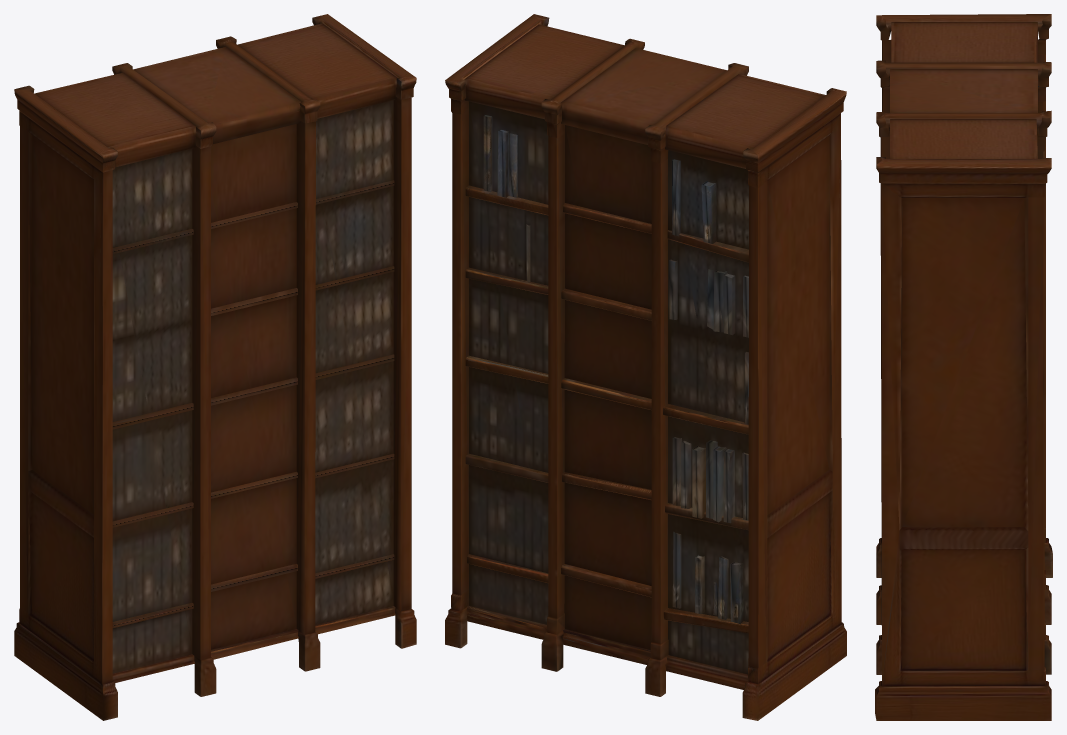
Rendered from furniture-archive-shelf.glb.
The picture shows the model from 3 angles, left to right: view 1: azimuth 30°, elevation 25°; view 2: azimuth 150°, elevation 25°; view 3: azimuth 270°, elevation 25°; orthographic projection.
Parts seen in each view (by area): view 1: tripo_node_5c62ba74-8c06-48d7-bbf6-18f4c9b72175; view 2: tripo_node_5c62ba74-8c06-48d7-bbf6-18f4c9b72175; view 3: tripo_node_5c62ba74-8c06-48d7-bbf6-18f4c9b72175.
Part boxes in pixels (left/top/right/bottom): tripo_node_5c62ba74-8c06-48d7-bbf6-18f4c9b72175: left=14, top=14, right=416, bottom=720; tripo_node_5c62ba74-8c06-48d7-bbf6-18f4c9b72175: left=445, top=14, right=846, bottom=720; tripo_node_5c62ba74-8c06-48d7-bbf6-18f4c9b72175: left=875, top=14, right=1052, bottom=720.
Bounding box in the file's own units: 1.3 × 2.25 × 0.65.
Materials: 1 (1 with a texture image).
